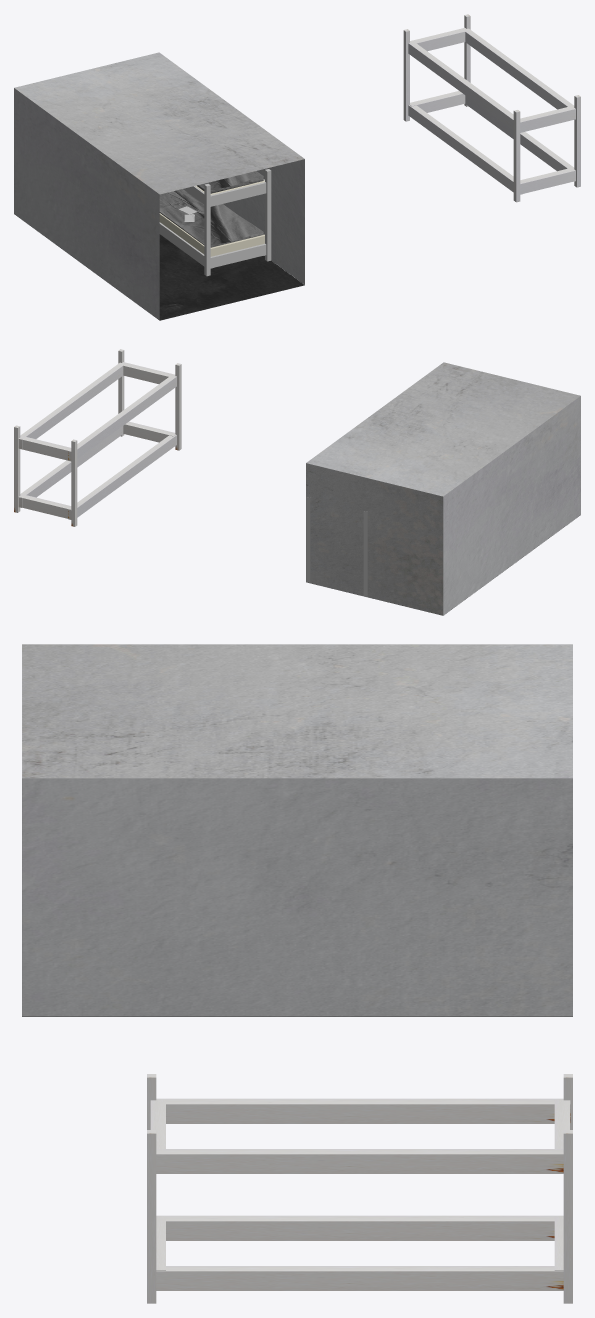
The model's file is prison.fbx.
3 views of the same model, one above another, from view 1: azimuth 30°, elevation 25°; view 2: azimuth 150°, elevation 25°; view 3: azimuth 270°, elevation 25° (orthographic). The views are drawn at different scales.
Parts seen in each view (by area): view 1: walls, floor, Cube.009, Cube.013, Cube.021, Cube.002, Cube.004, Cube.008, Cube.001, Cube.005, Cube.007; view 2: walls, Cube.009, Cube.013, Cube.021, Cube.005, Cube.008, Cube.006; view 3: walls, Cube.009, Cube.013, Cube.006, Cube.007.
Boxes of the visible parts, left/top/right/bottom form: walls: left=14, top=52, right=304, bottom=320; floor: left=37, top=231, right=304, bottom=320; Cube.009: left=408, top=27, right=575, bottom=132; Cube.013: left=408, top=91, right=575, bottom=194; Cube.021: left=159, top=169, right=271, bottom=276; Cube.002: left=159, top=189, right=263, bottom=247; Cube.004: left=159, top=213, right=264, bottom=256; Cube.008: left=513, top=110, right=520, bottom=202; Cube.001: left=197, top=171, right=263, bottom=193; Cube.005: left=403, top=29, right=409, bottom=121; Cube.007: left=574, top=95, right=580, bottom=187; walls: left=306, top=362, right=580, bottom=615; Cube.009: left=18, top=362, right=176, bottom=461; Cube.013: left=18, top=421, right=176, bottom=519; Cube.021: left=306, top=497, right=367, bottom=596; Cube.005: left=71, top=439, right=77, bottom=526; Cube.008: left=175, top=363, right=181, bottom=450; Cube.006: left=14, top=425, right=20, bottom=512; walls: left=22, top=644, right=572, bottom=1016; Cube.009: left=150, top=1098, right=570, bottom=1173; Cube.013: left=156, top=1215, right=563, bottom=1290; Cube.006: left=563, top=1130, right=572, bottom=1303; Cube.007: left=147, top=1130, right=156, bottom=1303.
Size of the model in its own units: 5258 by 1407 by 2923.
